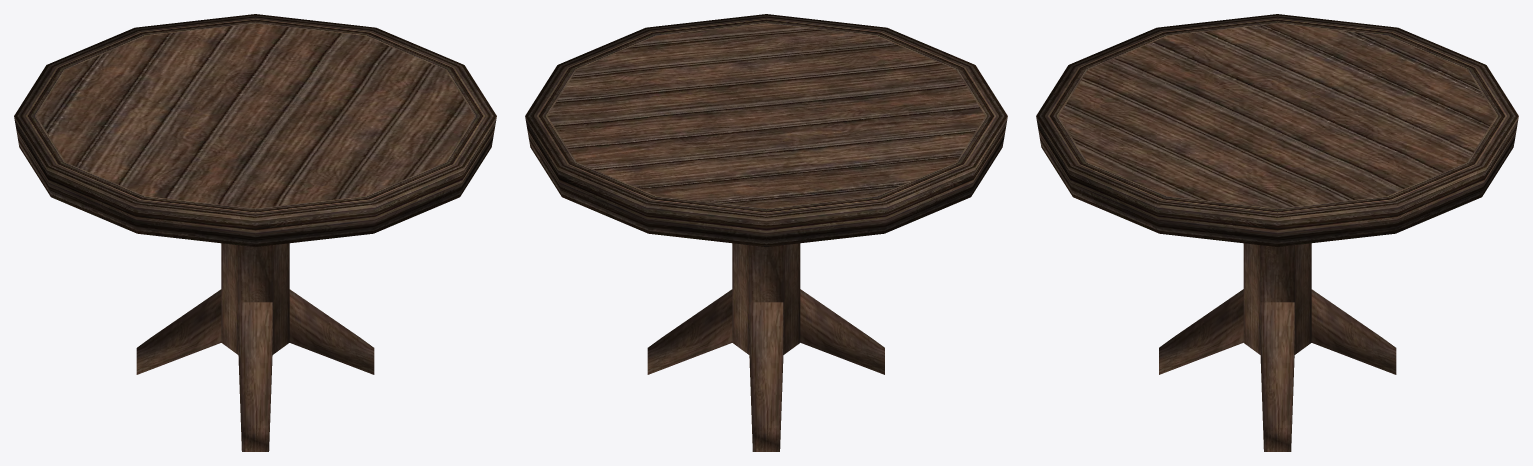
File: GS_TABLE_CIRCULAR_ORANGE_01_KOZA.glb
3 renders of one model, left to right at view 1: azimuth 30°, elevation 25°; view 2: azimuth 150°, elevation 25°; view 3: azimuth 270°, elevation 25°, orthographic.
Parts seen in each view (by area): view 1: Mesh; view 2: Mesh; view 3: Mesh.
Part boxes in pixels (bbox=[...]): Mesh: bbox=[14, 14, 496, 451]; Mesh: bbox=[525, 14, 1007, 451]; Mesh: bbox=[1036, 14, 1518, 451].
Size of the model in its own units: 1.4 by 0.9 by 1.4.
Materials: 2 (2 with a texture image).
